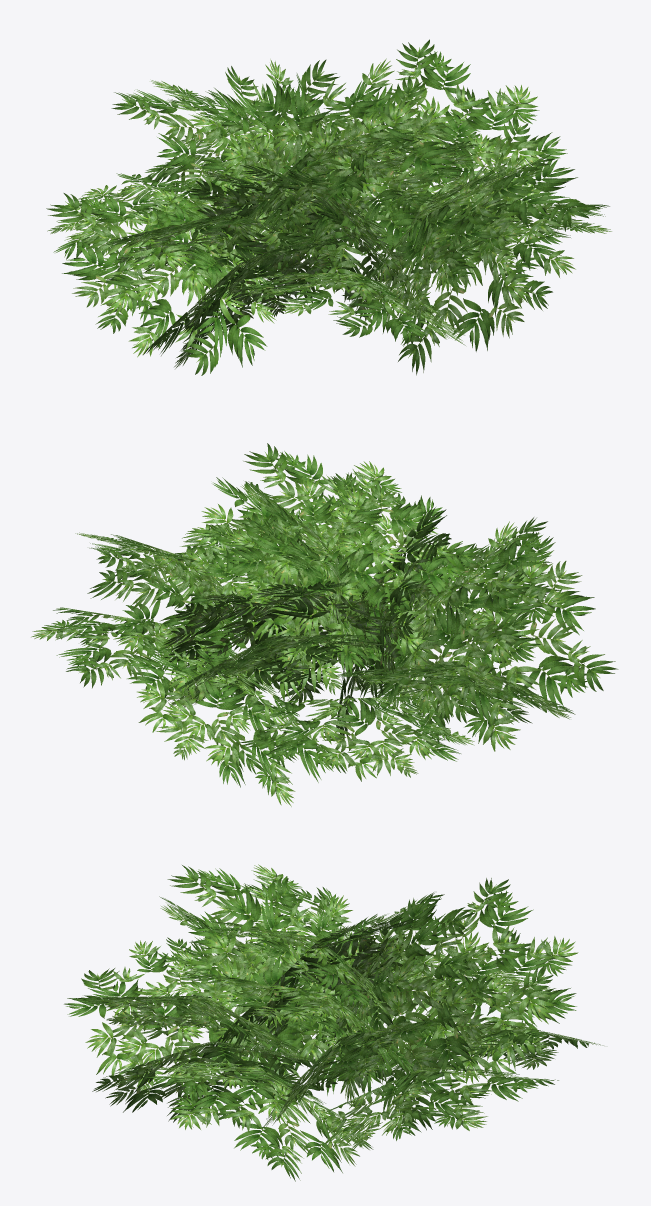
Rendered from MK4_CoverGround2.DAE.
3 views of the same model, one above another, from view 1: azimuth 30°, elevation 25°; view 2: azimuth 150°, elevation 25°; view 3: azimuth 270°, elevation 25° (orthographic). The views are drawn at different scales.
Parts seen in each view (by area): view 1: MK4_CoverGround2; view 2: MK4_CoverGround2; view 3: MK4_CoverGround2.
Part boxes in pixels (bbox=[...]): MK4_CoverGround2: bbox=[46, 39, 611, 375]; MK4_CoverGround2: bbox=[31, 443, 618, 806]; MK4_CoverGround2: bbox=[64, 864, 603, 1181].
Size of the model in its own units: 5.94 by 5.92 by 2.97.
